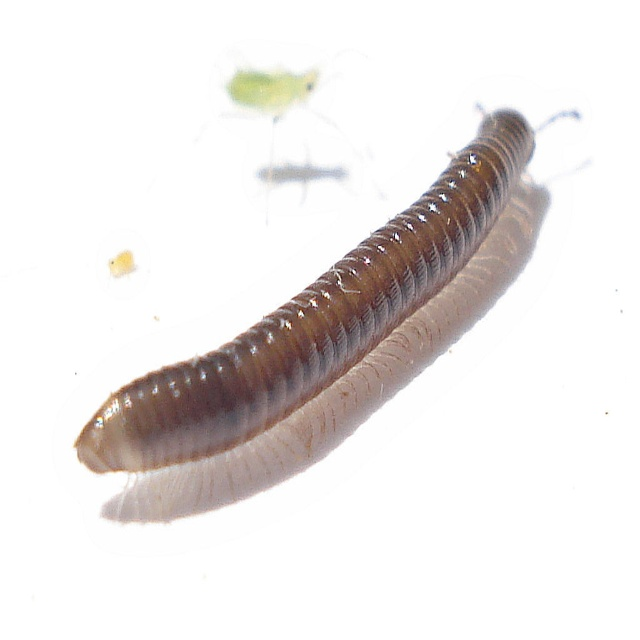Centipede: (71, 101, 582, 510)
